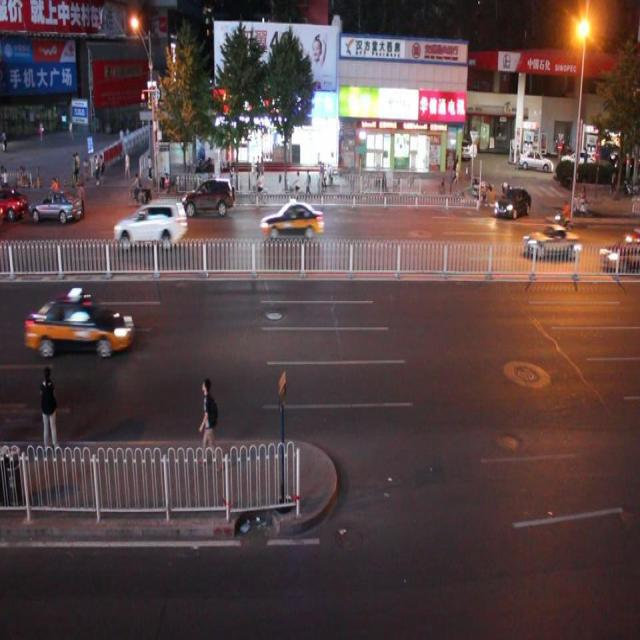car: (21, 289, 142, 364), (114, 200, 190, 252), (182, 170, 239, 228), (263, 196, 328, 244), (600, 218, 640, 287), (524, 223, 579, 268), (32, 188, 89, 224), (1, 177, 30, 237), (493, 186, 535, 221)
